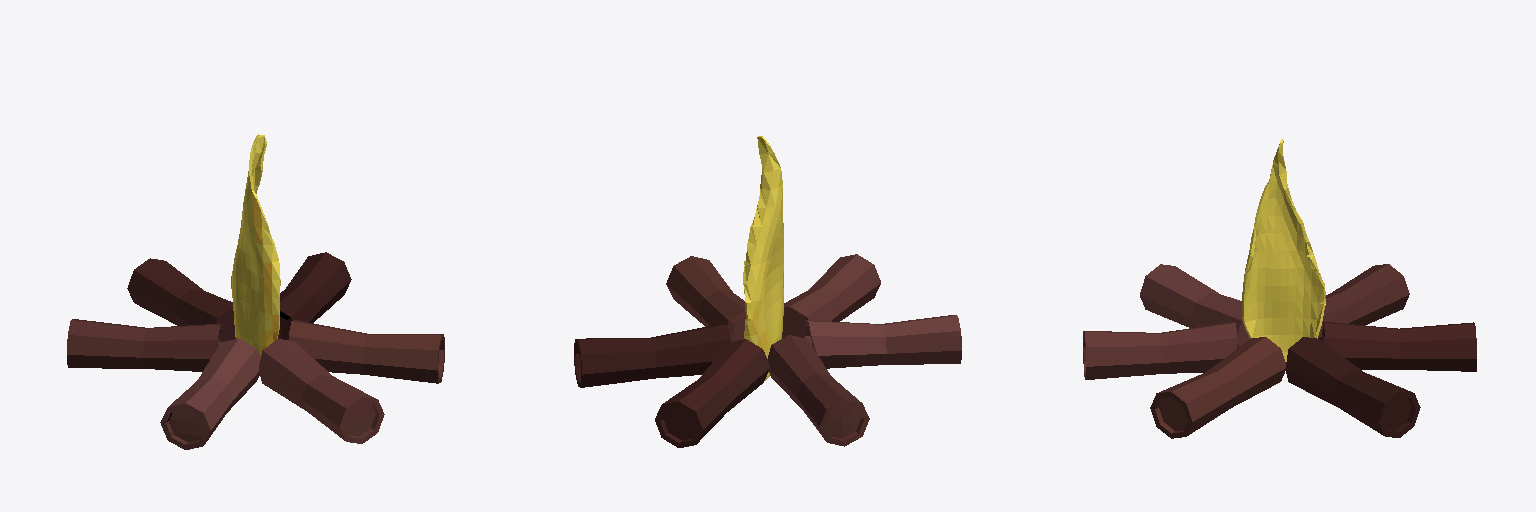
3 views of the same model, side by side, from view 1: azimuth 30°, elevation 25°; view 2: azimuth 150°, elevation 25°; view 3: azimuth 270°, elevation 25° (orthographic).
Visible parts, largest first — view 1: Tronco_5_Material.001, Fuego_Material.001, Tronco_3_Material.001, Tronco_2_Material.001, Tronco_1_Material.001, Tronco_4.001_Material.001, Tronco_4_Material.001; view 2: Tronco_1_Material.001, Tronco_4_Material.001, Fuego_Material.001, Tronco_4.001_Material.001, Tronco_5_Material.001, Tronco_2_Material.001, Tronco_3_Material.001; view 3: Fuego_Material.001, Tronco_3_Material.001, Tronco_4_Material.001, Tronco_2_Material.001, Tronco_4.001_Material.001, Tronco_1_Material.001, Tronco_5_Material.001.
Boxes of the visible parts, box(x1,y1,x2,y2) form: Tronco_5_Material.001: box(67, 319, 222, 371); Fuego_Material.001: box(231, 134, 280, 356); Tronco_3_Material.001: box(289, 320, 444, 383); Tronco_2_Material.001: box(259, 339, 384, 443); Tronco_1_Material.001: box(160, 338, 260, 449); Tronco_4.001_Material.001: box(127, 258, 235, 341); Tronco_4_Material.001: box(278, 252, 351, 339); Tronco_1_Material.001: box(804, 315, 961, 368); Tronco_4_Material.001: box(574, 323, 730, 387); Fuego_Material.001: box(743, 136, 783, 380); Tronco_4.001_Material.001: box(655, 339, 769, 447); Tronco_5_Material.001: box(767, 335, 869, 446); Tronco_2_Material.001: box(782, 254, 880, 338); Tronco_3_Material.001: box(666, 256, 745, 341); Fuego_Material.001: box(1242, 139, 1325, 361); Tronco_3_Material.001: box(1150, 337, 1285, 438); Tronco_4_Material.001: box(1285, 337, 1420, 437); Tronco_2_Material.001: box(1083, 322, 1236, 379); Tronco_4.001_Material.001: box(1322, 322, 1476, 371); Tronco_1_Material.001: box(1140, 264, 1249, 348); Tronco_5_Material.001: box(1318, 264, 1409, 340).
Bounding box in the file's own units: 5.2 × 4.06 × 6.09.
Materials: 1 (1 with a texture image).